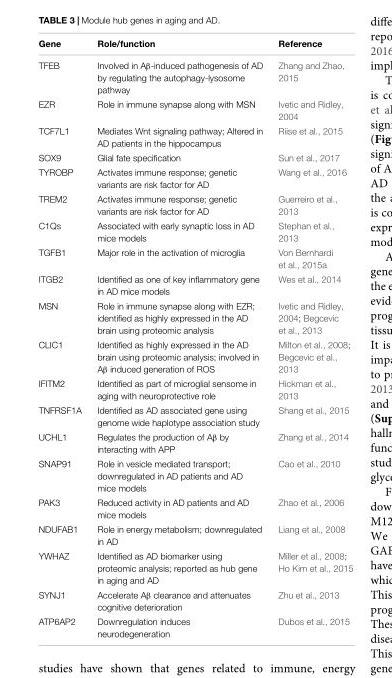table: (37, 37, 352, 638)
table column: (88, 37, 269, 638), (269, 37, 352, 638), (37, 37, 88, 638)
table column header: (37, 37, 352, 53)
table row: (37, 53, 352, 96), (37, 297, 352, 336), (37, 336, 352, 375), (37, 455, 352, 494), (37, 547, 352, 586), (37, 122, 352, 149), (37, 190, 352, 217), (37, 217, 352, 244), (37, 244, 352, 271), (37, 375, 352, 402), (37, 428, 352, 455), (37, 494, 352, 521), (37, 586, 352, 613), (37, 96, 352, 122), (37, 164, 352, 190), (37, 271, 352, 297), (37, 402, 352, 428), (37, 521, 352, 547), (37, 613, 352, 638), (37, 37, 352, 53), (37, 149, 352, 164)
